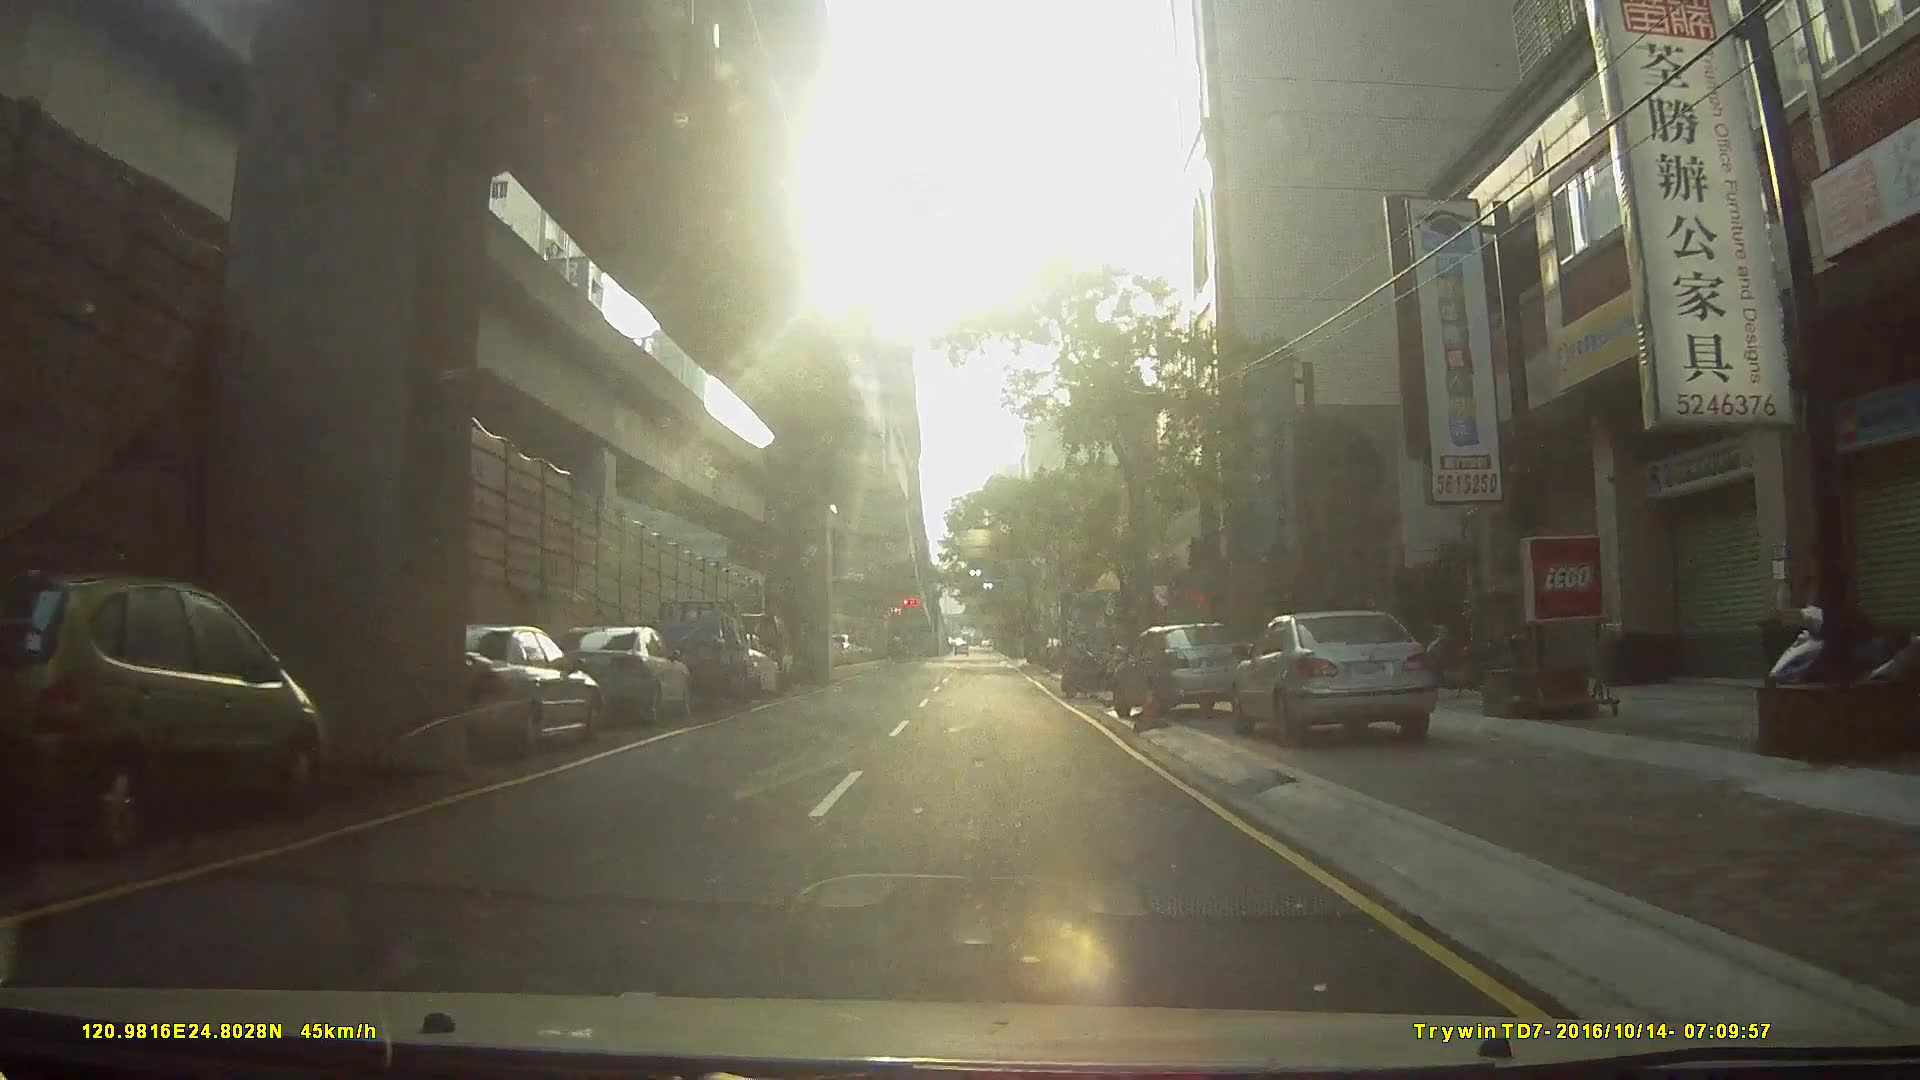rider: (1060, 628, 1118, 697)
vehicle: (1, 569, 337, 851), (1236, 606, 1448, 747), (402, 621, 599, 764), (537, 623, 691, 727), (1111, 619, 1263, 724), (630, 596, 750, 713)
